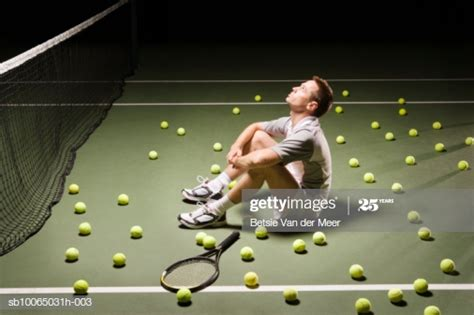tennis_ball: (354, 297, 372, 315), (243, 271, 259, 288), (387, 287, 404, 303), (73, 279, 89, 295), (176, 288, 192, 304), (349, 263, 364, 279), (413, 278, 429, 293), (112, 252, 127, 267), (292, 238, 307, 253), (283, 286, 298, 301), (440, 258, 455, 273), (65, 247, 79, 263), (240, 246, 254, 261), (78, 221, 91, 237), (73, 201, 87, 215), (202, 235, 216, 249), (312, 231, 326, 245), (194, 231, 207, 246), (422, 306, 443, 315), (130, 225, 143, 239), (255, 225, 268, 239), (117, 193, 130, 206), (418, 227, 432, 239), (68, 182, 80, 195), (407, 210, 419, 223), (363, 172, 375, 183), (458, 160, 469, 172), (212, 141, 223, 152), (348, 157, 359, 168), (391, 182, 403, 192), (210, 163, 220, 174), (434, 142, 445, 152), (148, 150, 158, 160), (231, 106, 241, 116), (370, 120, 380, 130), (405, 155, 415, 165), (176, 127, 186, 136), (408, 128, 418, 137), (464, 136, 474, 145), (160, 120, 169, 129), (336, 135, 345, 144), (398, 107, 407, 116), (385, 132, 394, 141), (432, 121, 441, 130), (253, 94, 262, 102), (334, 105, 343, 113), (398, 97, 406, 105), (342, 89, 349, 96)
